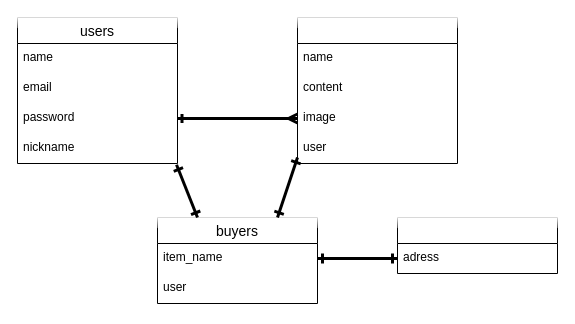
This 575x324 diagram has some shape labels left out. Here are the shapes that lost their labels. From the top down, the box of each, then its label:
(296, 16, 458, 164): items
(396, 216, 558, 274): addresses
